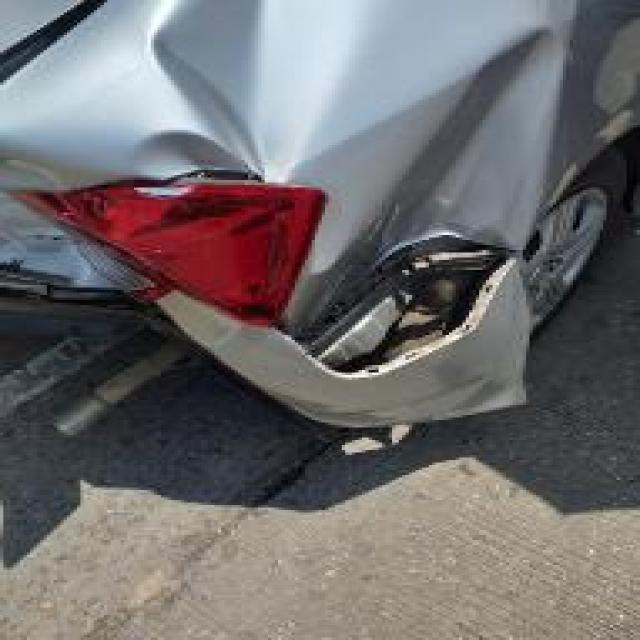Bumper: (4, 242, 567, 423)
Fender: (0, 0, 577, 315)
Light: (23, 177, 336, 339)
